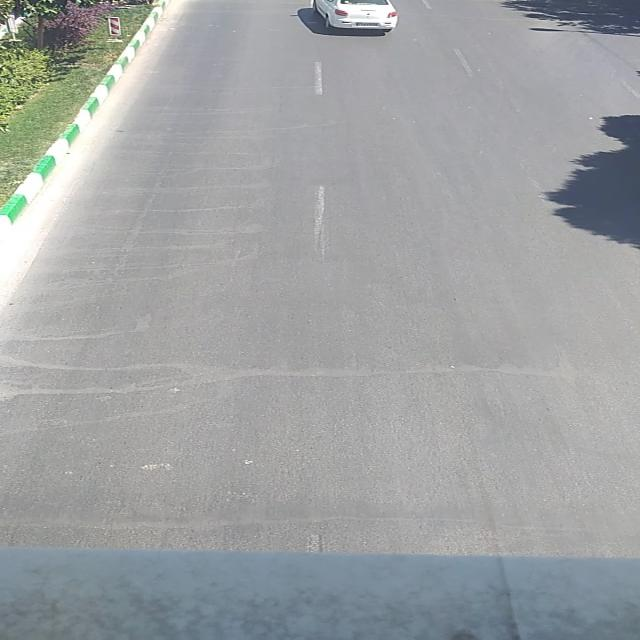car: (310, 0, 400, 30)
